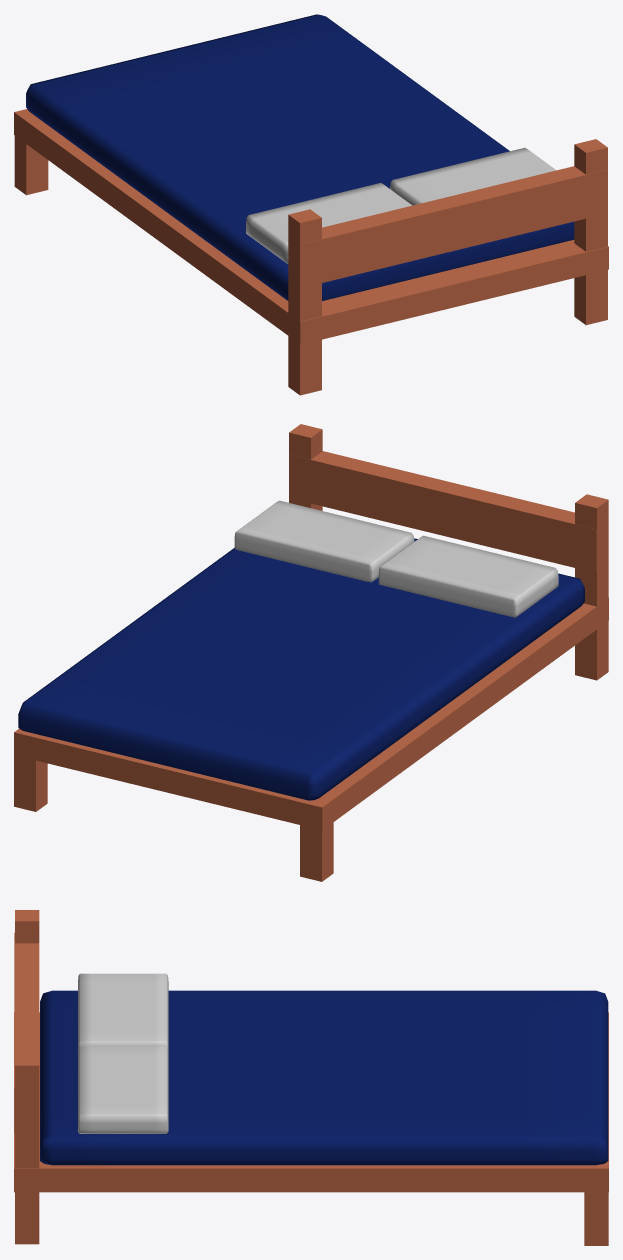
File: camaCasal.FBX
The picture shows the model from 3 angles, top to bottom: view 1: azimuth 30°, elevation 25°; view 2: azimuth 150°, elevation 25°; view 3: azimuth 270°, elevation 25°; orthographic projection. The views are drawn at different scales.
Visible parts, largest first — view 1: Box011; view 2: Box011; view 3: Box011.
Part boxes in pixels (<box>): Box011: <box>14,14,608,395</box>; Box011: <box>14,424,608,881</box>; Box011: <box>14,910,608,1245</box>.
Size of the model in its own units: 77.08 by 41.44 by 124.
